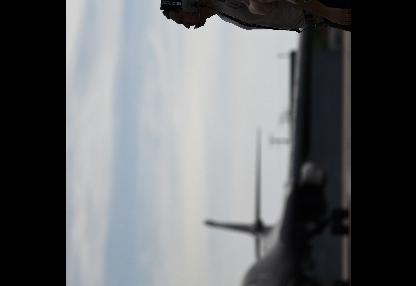AV8B: (200, 0, 350, 285)
